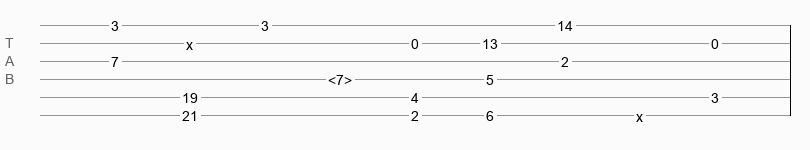0: (411, 36, 419, 46), (711, 36, 719, 46)
13: (482, 36, 498, 46)
14: (557, 18, 573, 28)
19: (182, 90, 198, 100)
2: (411, 108, 419, 118), (561, 54, 569, 64)
21: (182, 108, 198, 118)
3: (111, 18, 119, 28), (261, 18, 269, 28), (711, 90, 719, 100)
4: (411, 90, 419, 100)
5: (486, 72, 494, 82)
6: (486, 108, 494, 118)
7: (111, 54, 119, 64)
harmonic: (328, 72, 352, 82)
x: (186, 37, 193, 45), (636, 109, 643, 117)
